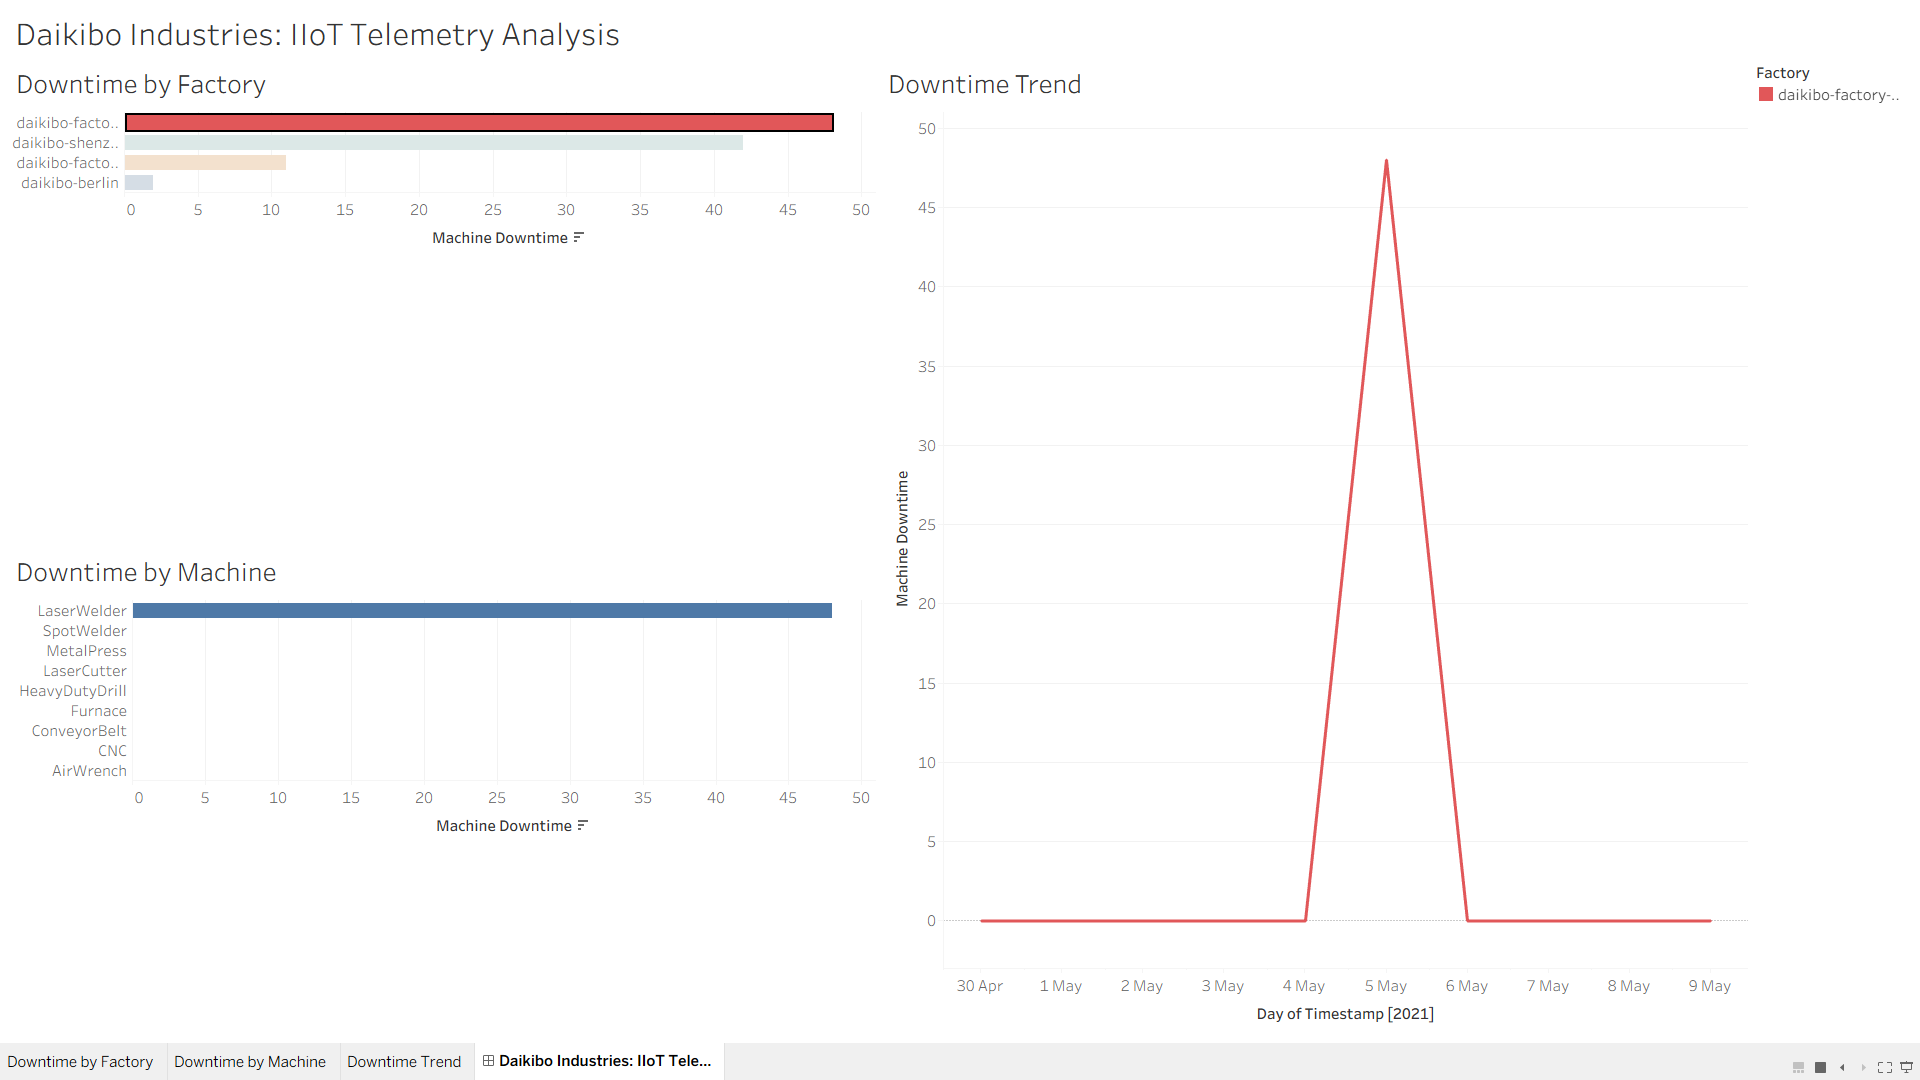

The page's visual inventory and layout, read from the dashboard file:
{"tool":"tableau","page":{"name":"Daikibo Industries: IIoT Telemetry Analysis","canvas":[1000,1000],"units":"permille","ordinal":0},"visuals":[{"type":"title","box":[4.8,8.8,990.3,54.9]},{"type":"worksheet","title":"Downtime by Factory","mark":"Automatic","rows":["factory"],"cols":["Calculation_1813951393034240"],"box":[4.8,63.7,440.6,463.7]},{"type":"worksheet","title":"Downtime Trend","mark":"Automatic","rows":["Calculation_1813951393034240"],"cols":["timestamp"],"box":[445.4,63.7,453.2,927.6]},{"type":"legend","title":"Downtime Trend","param":"[federated.0dfa3hv15g2pef1g6h5f31583lfa].[none:factory:nk]","box":[898.6,63.7,96.6,125.1]},{"type":"legend","title":"Downtime by Machine","param":"[federated.0dfa3hv15g2pef1g6h5f31583lfa].[sum:Calculation_1813951393034240:qk]","box":[898.6,188.8,96.6,26.3]},{"type":"worksheet","title":"Downtime by Machine","mark":"Automatic","rows":["deviceType"],"cols":["Calculation_1813951393034240"],"box":[4.8,527.4,440.6,463.8]}]}

Visuals, with their boxes on the dashboard's canvas, which has no fixed pixel size, in thousandths of its width and height (x1, y1, x2, y2). These are canvas units, not pixel positions in the 1920x1080 screenshot, which may show the page scaled, cropped or inside an application window:
title: l=5, t=9, r=995, b=64
"Downtime by Factory" worksheet: l=5, t=64, r=445, b=527
"Downtime Trend" worksheet: l=445, t=64, r=899, b=991
"Downtime Trend" legend: l=899, t=64, r=995, b=189
"Downtime by Machine" legend: l=899, t=189, r=995, b=215
"Downtime by Machine" worksheet: l=5, t=527, r=445, b=991
